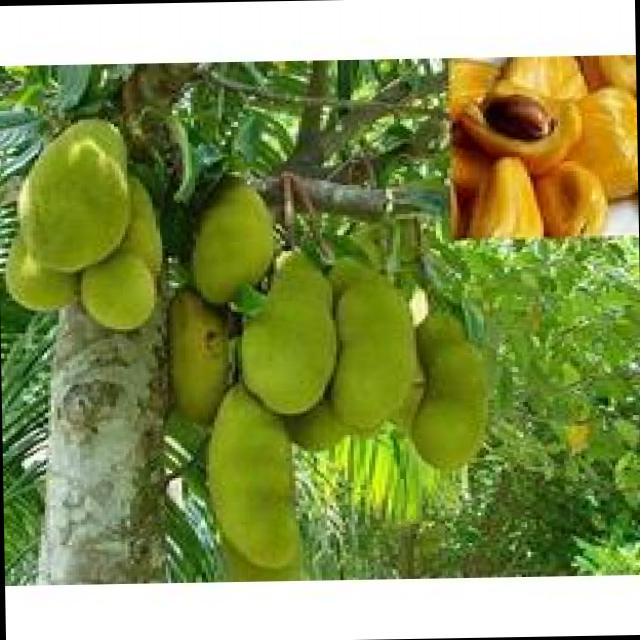Fruit: (202, 223, 446, 479), (175, 163, 292, 325)
